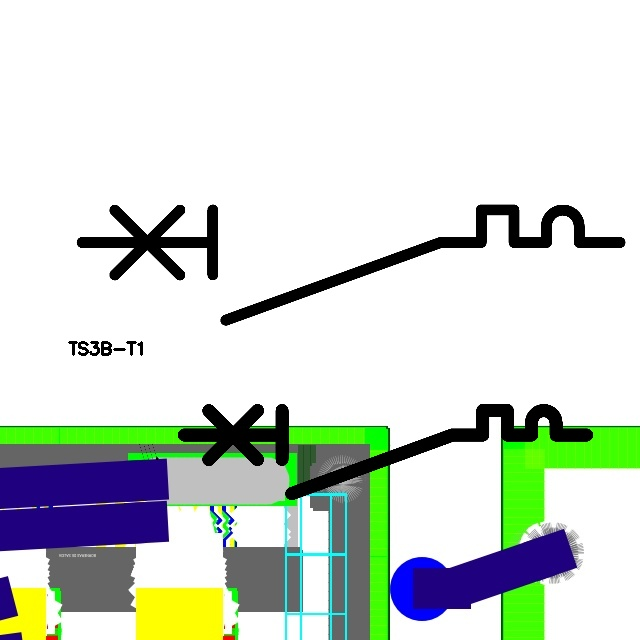interruptor_termomagnetico: (68, 196, 634, 334), (173, 400, 597, 503)
